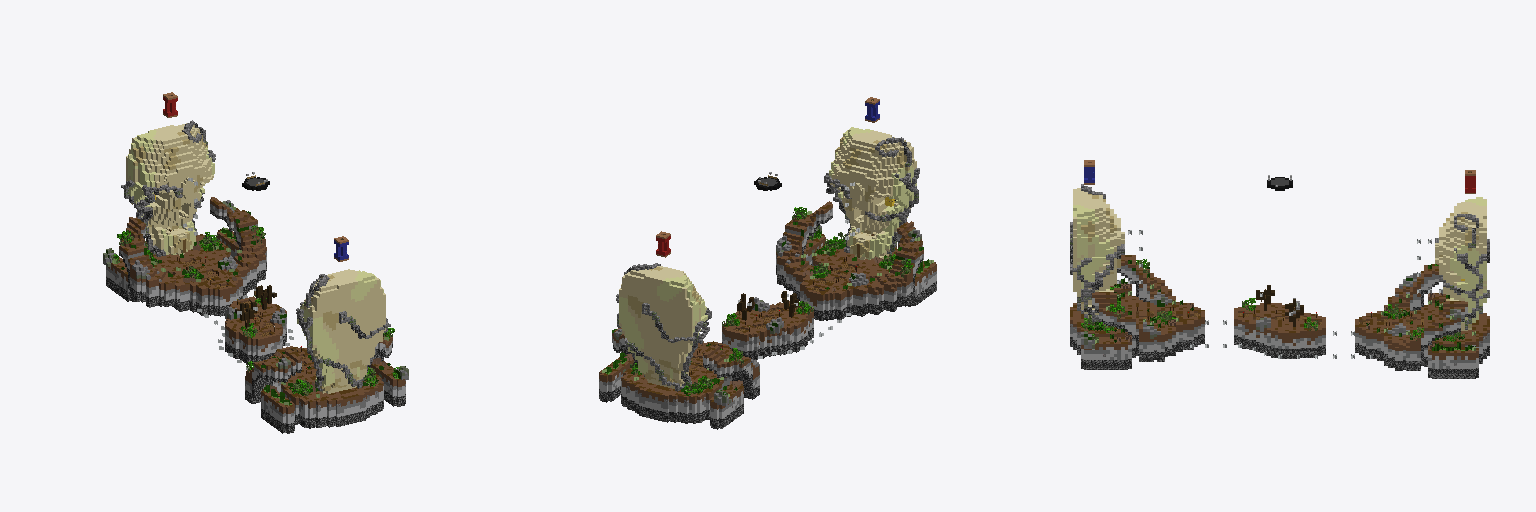
The picture shows the model from 3 angles: view 1: azimuth 30°, elevation 25°; view 2: azimuth 150°, elevation 25°; view 3: azimuth 270°, elevation 25°; orthographic projection.
Size of the model in its own units: 47 by 53.5 by 115.
50 materials, 14 textured.